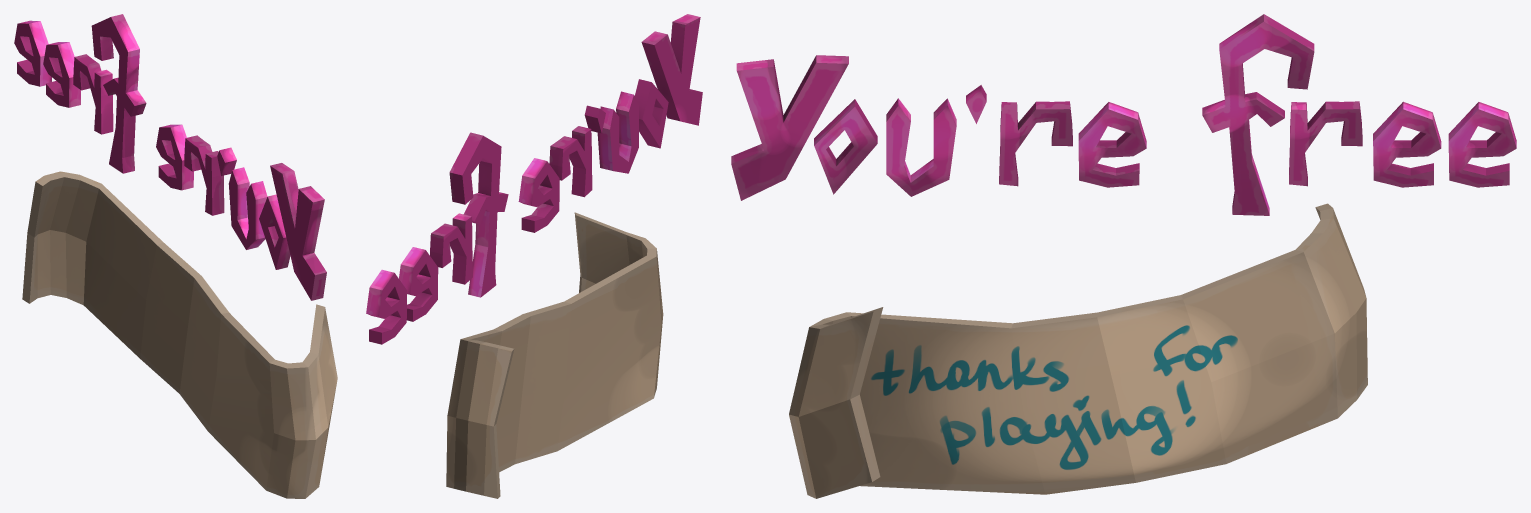
The model's file is end.fbx.
3 views of the same model, side by side, from view 1: azimuth 30°, elevation 25°; view 2: azimuth 150°, elevation 25°; view 3: azimuth 270°, elevation 25° (orthographic). The views are drawn at different scales.
Visible parts, largest first — view 1: Plane.001; view 2: Plane.001; view 3: Plane.001.
Boxes of the visible parts, box(x1,y1,x2,y2) form: Plane.001: box(14, 14, 337, 498); Plane.001: box(366, 14, 702, 498); Plane.001: box(731, 14, 1516, 498).
Size of the model in its own units: 47.17 by 136 by 206.
